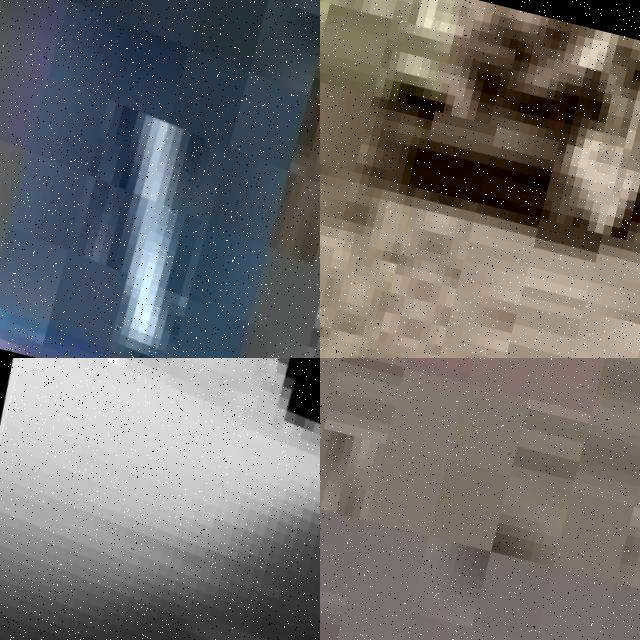drone: (0, 0, 320, 358), (0, 358, 320, 640)
